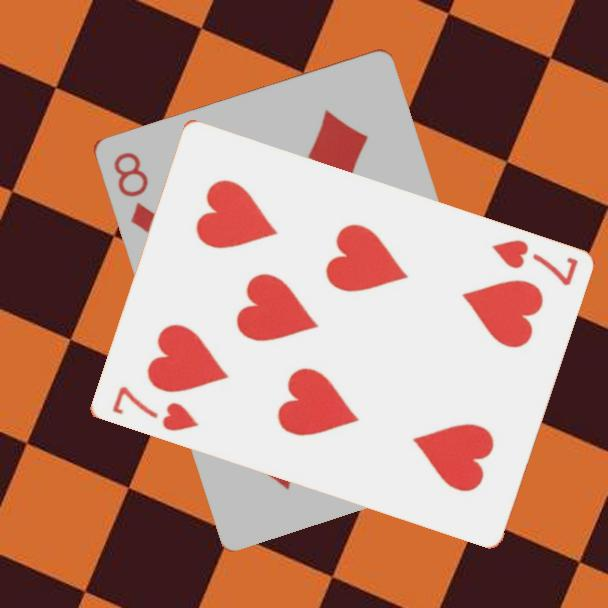d08: (109, 148, 158, 236)
h07: (487, 236, 581, 289), (108, 383, 201, 435)
